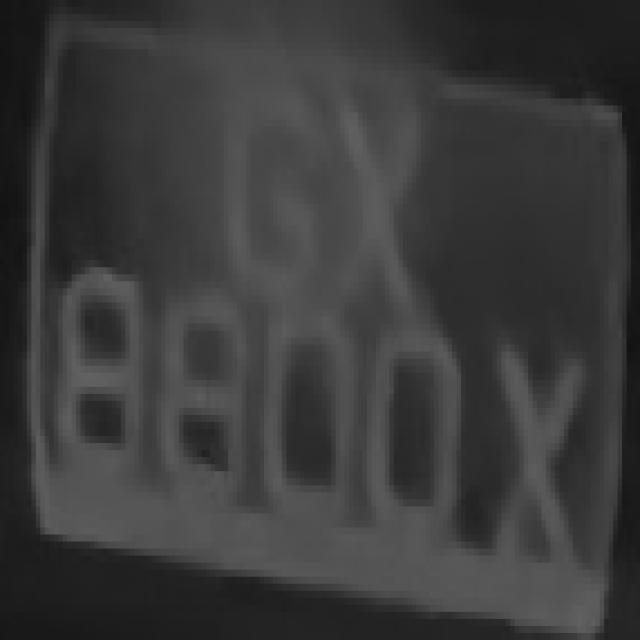0: (354, 331, 484, 548), (264, 309, 358, 542)
8: (40, 239, 148, 506), (152, 253, 255, 521)
G: (215, 56, 331, 324)
X: (327, 63, 448, 331), (497, 330, 595, 598)
